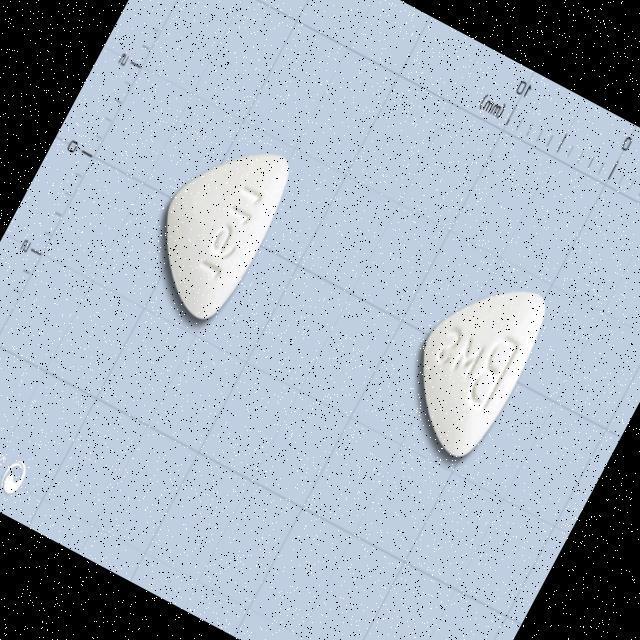Baraclude: (378, 250, 564, 472), (122, 113, 306, 335)
